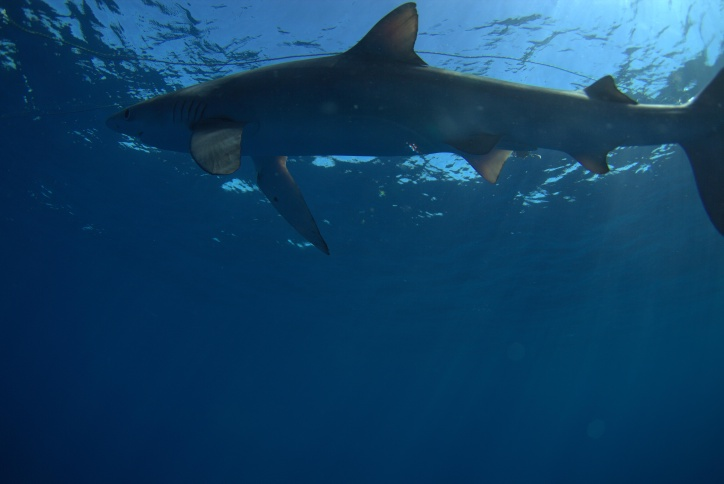Azul: (84, 1, 724, 280)
